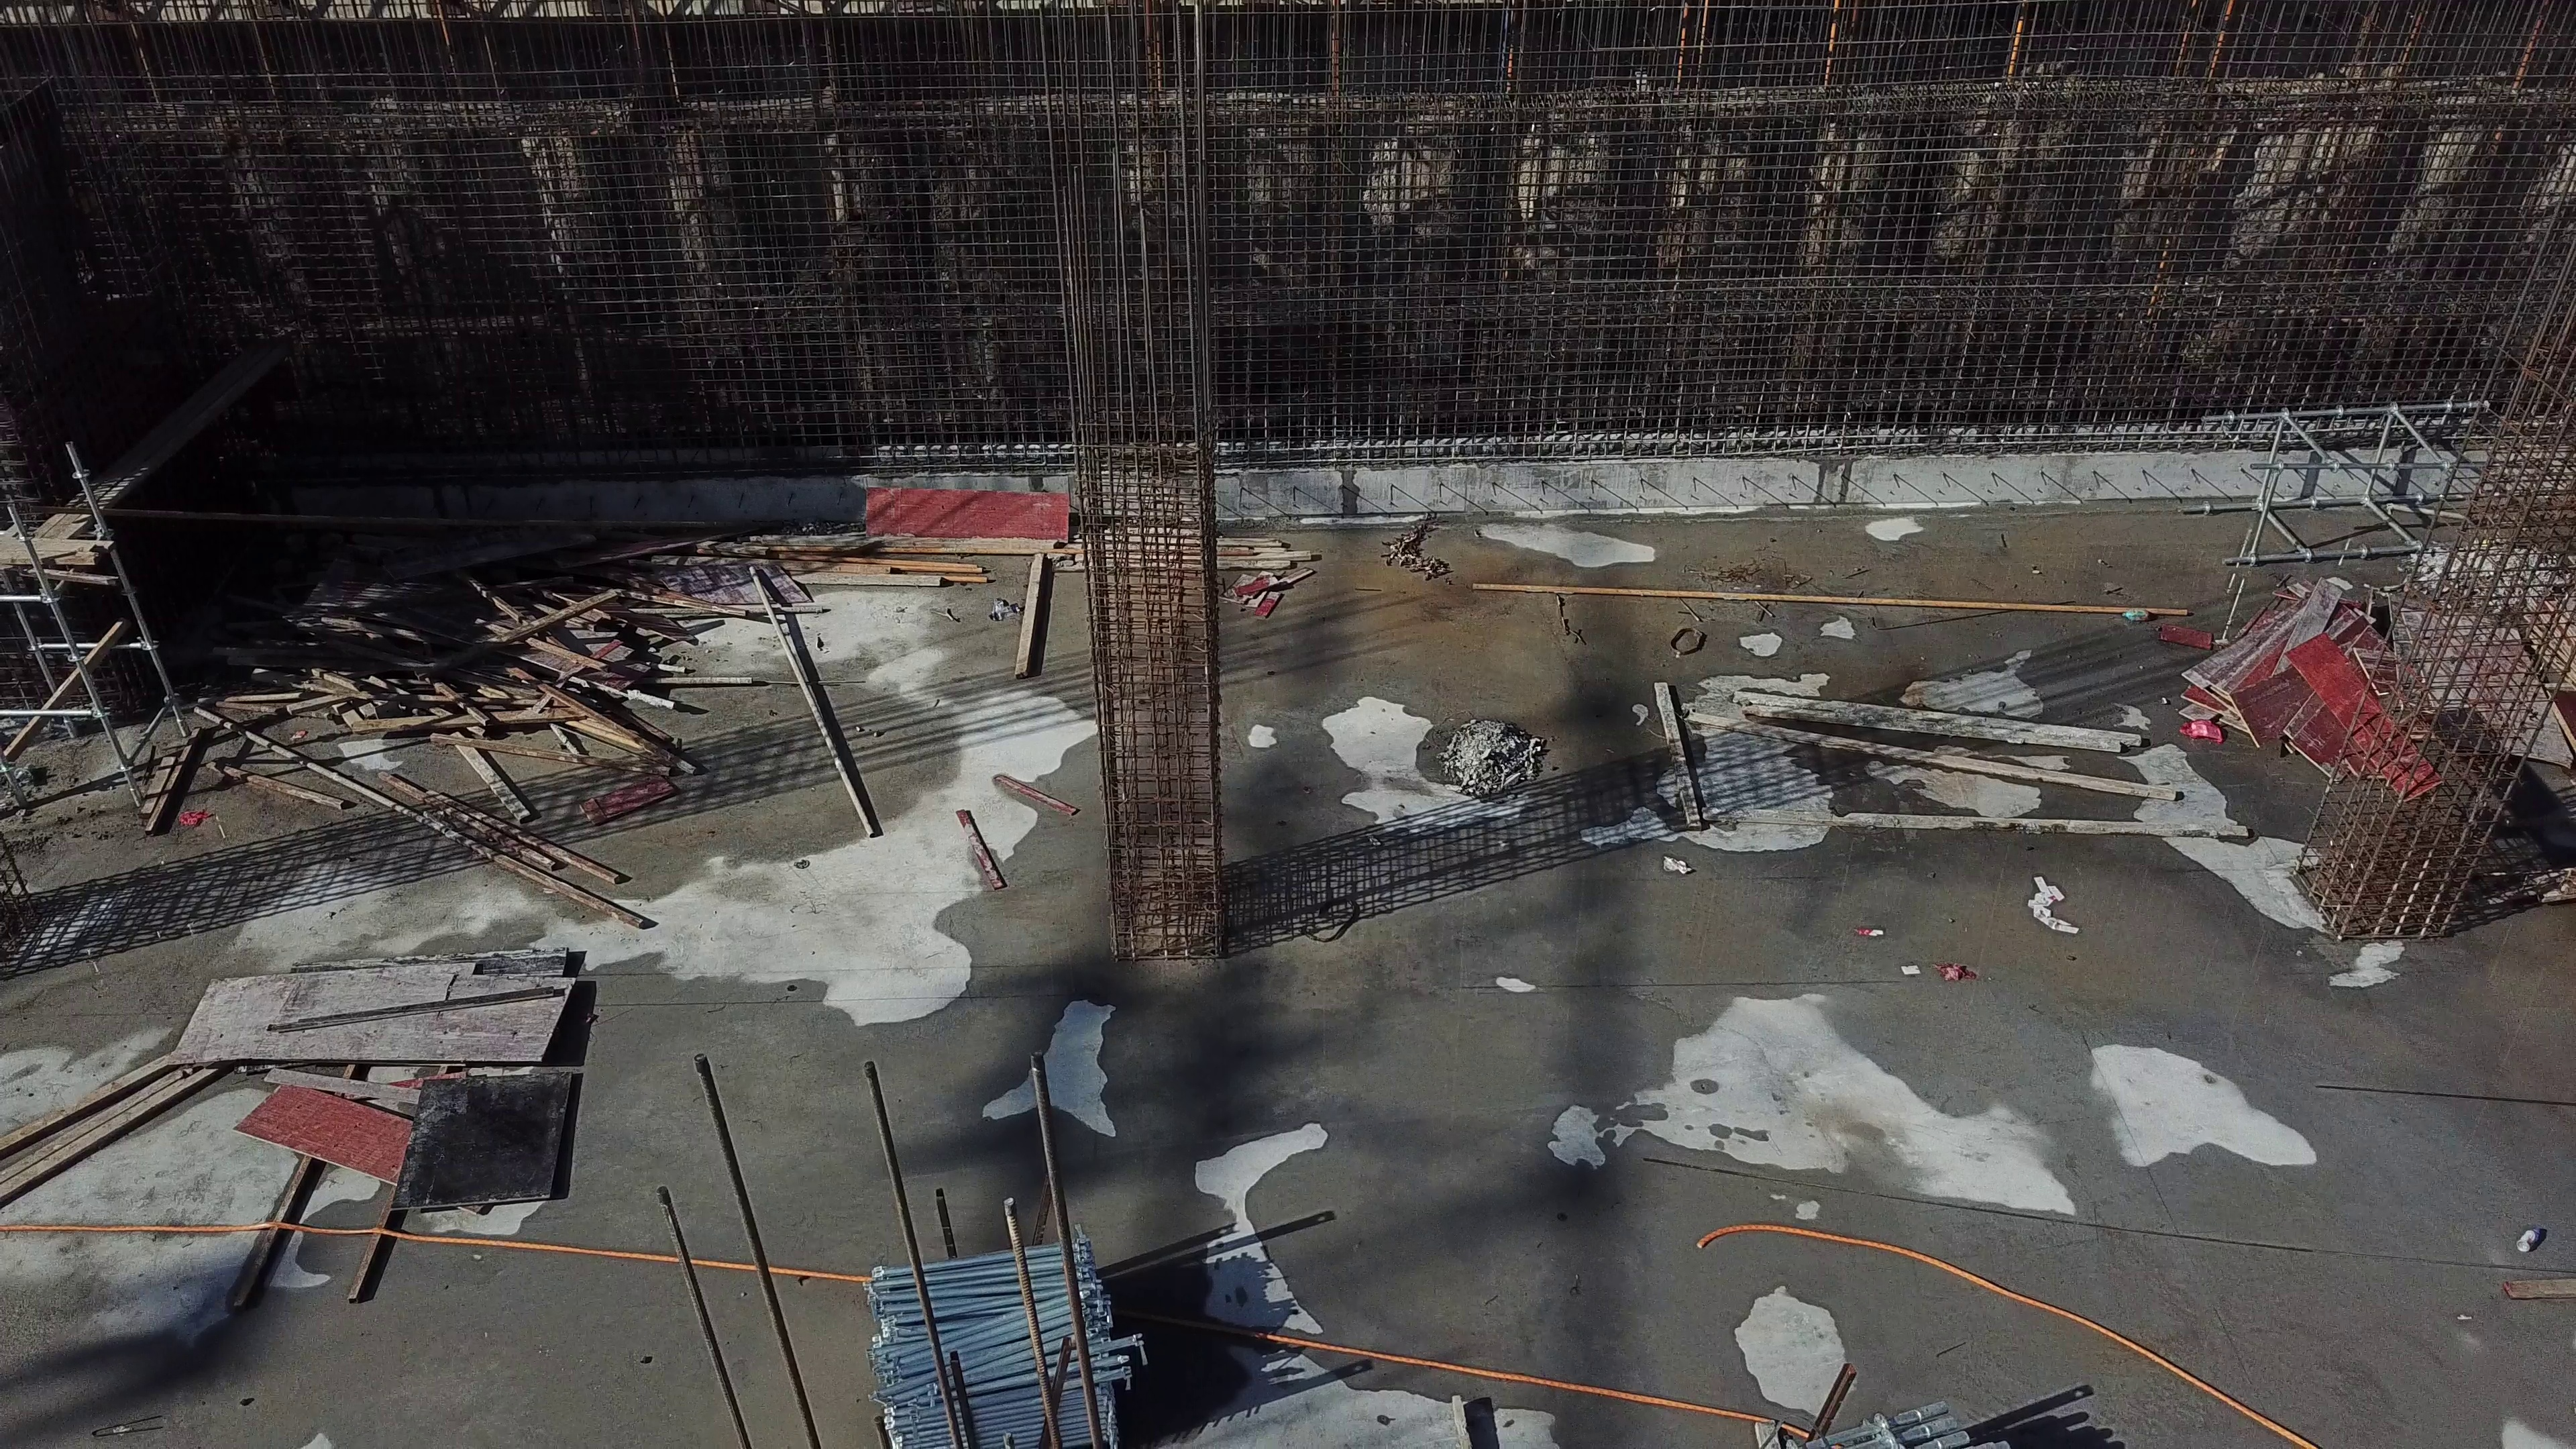board: (2180, 564, 2387, 786)
scaffold: (858, 1233, 1169, 1447)
